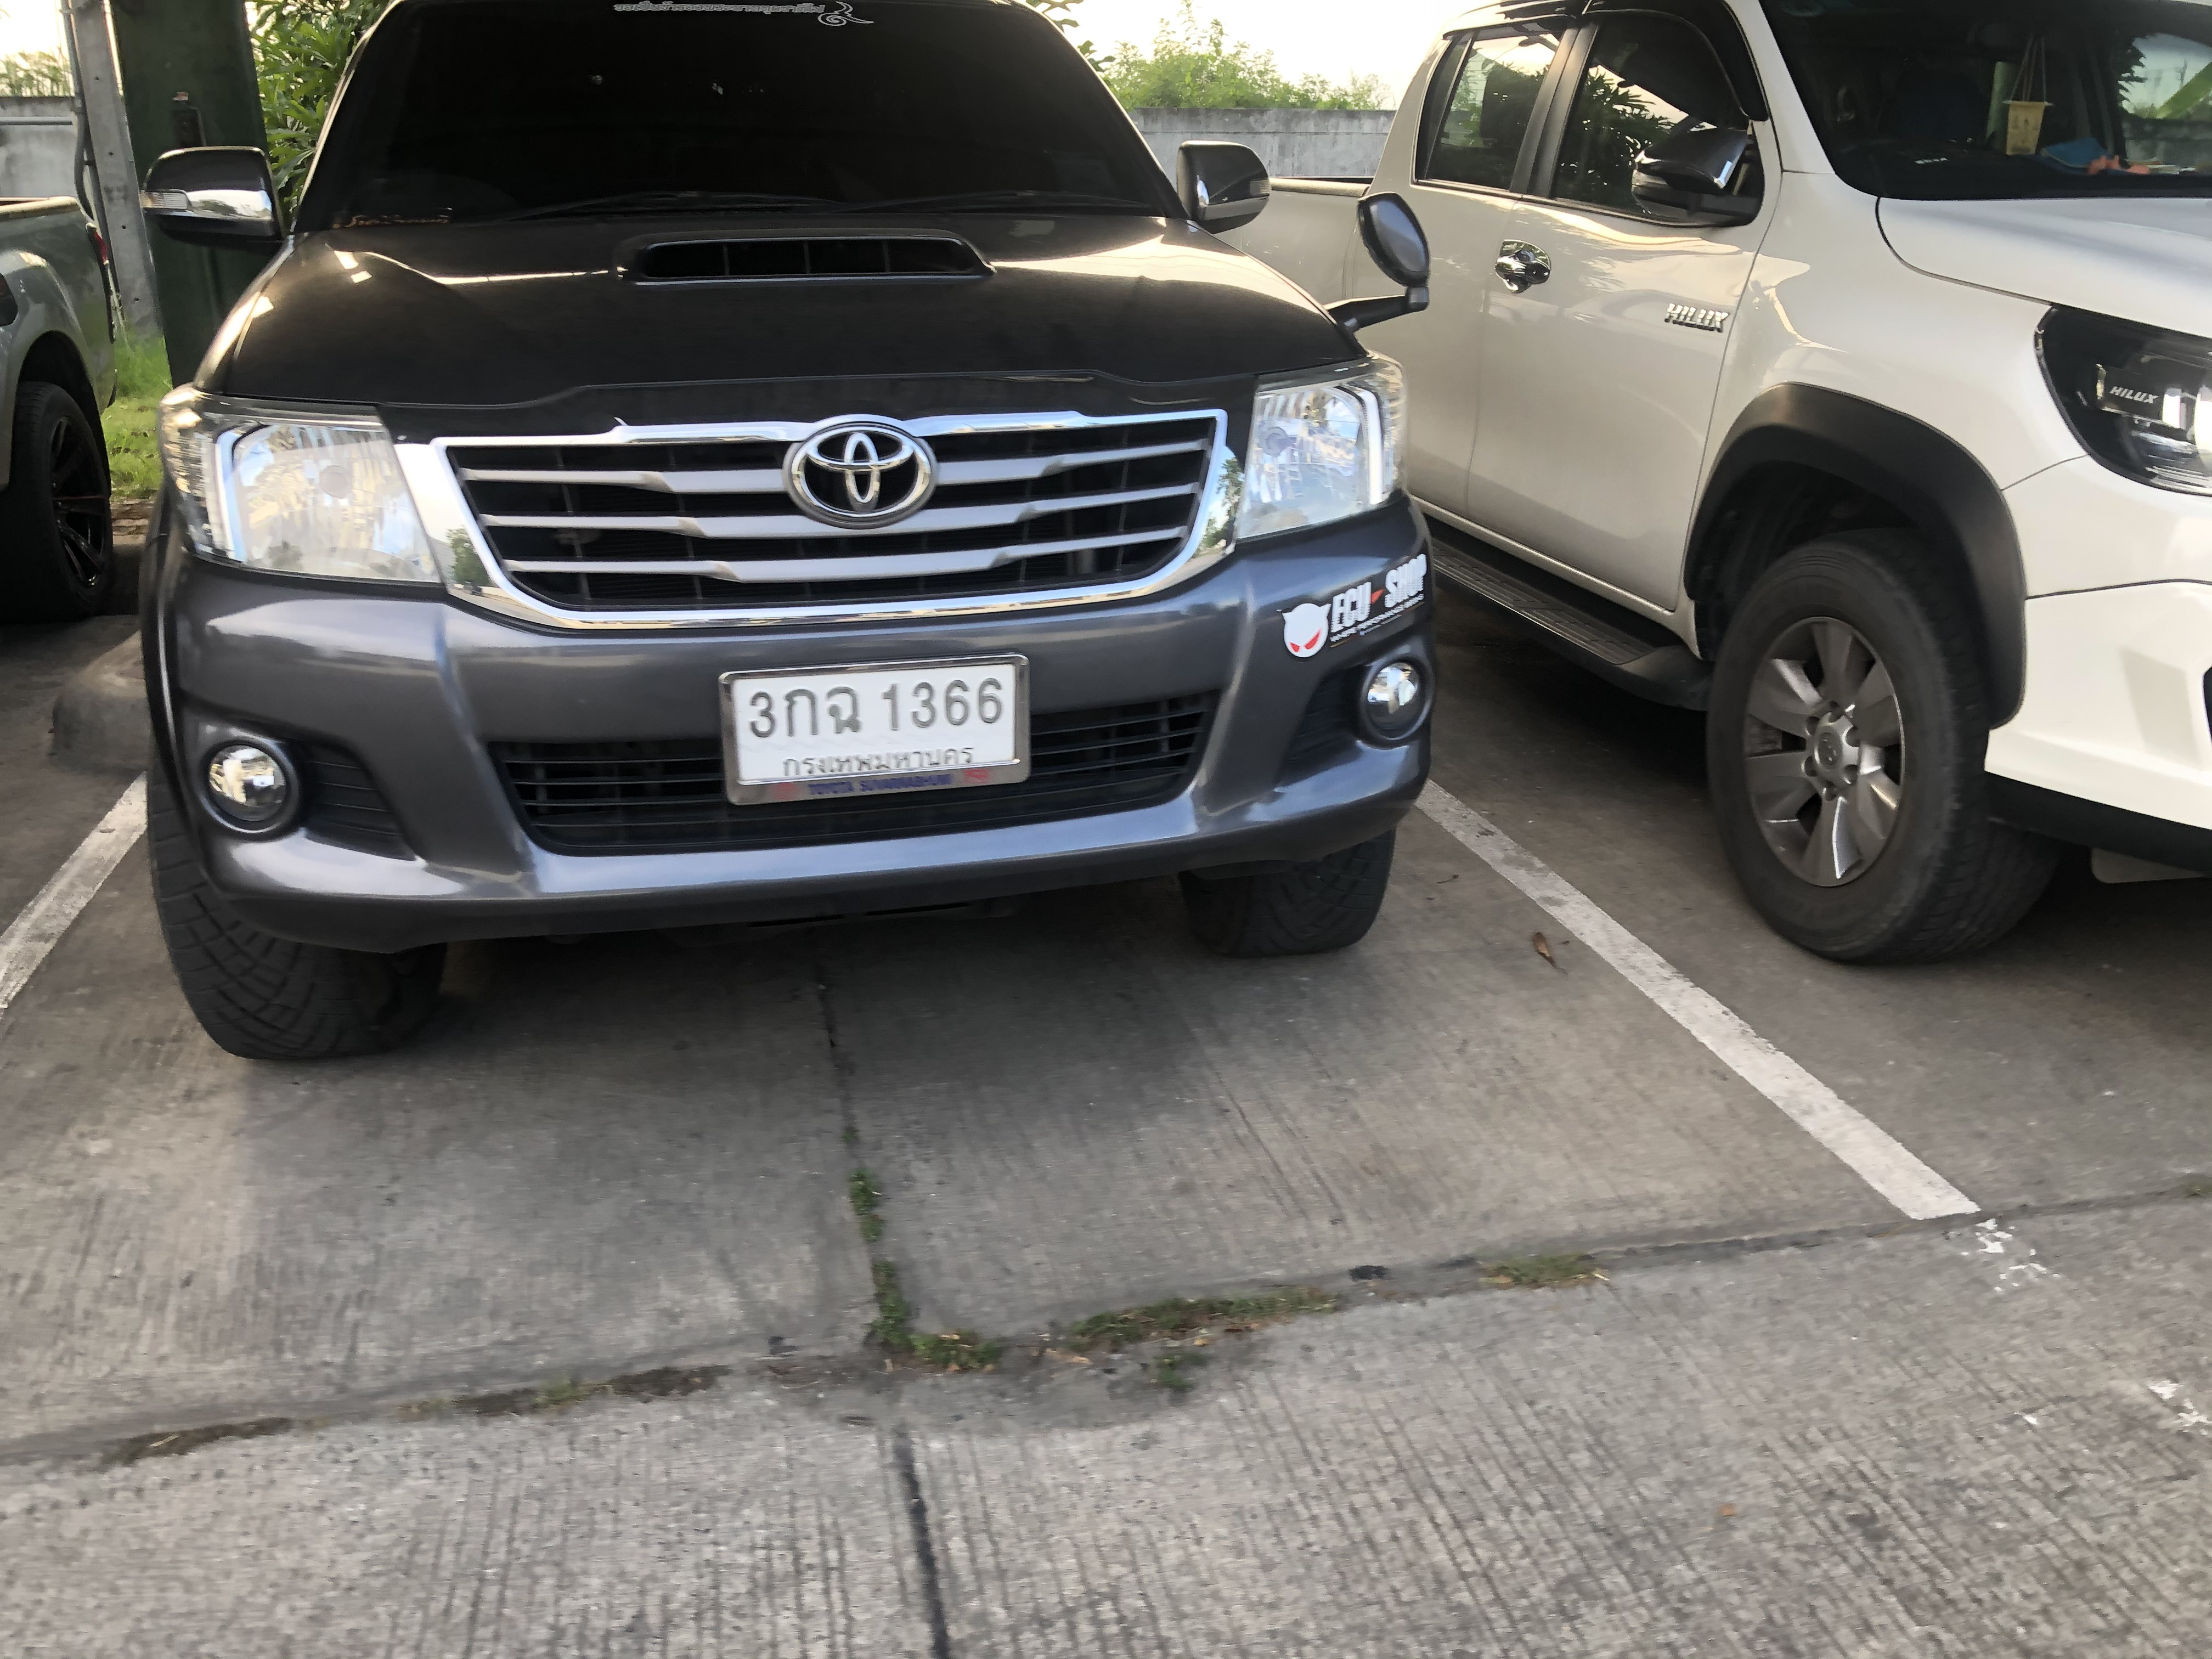in: (733, 676, 1021, 770)
out: (712, 652, 1047, 803)
